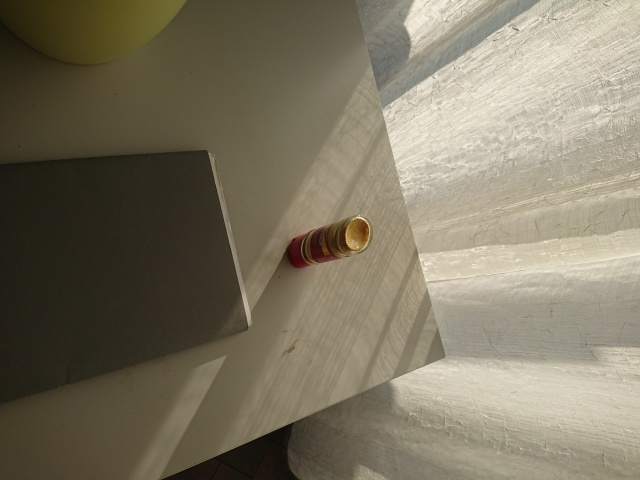Kotanyi Curry Spices Mix 70g: (285, 211, 375, 270)
